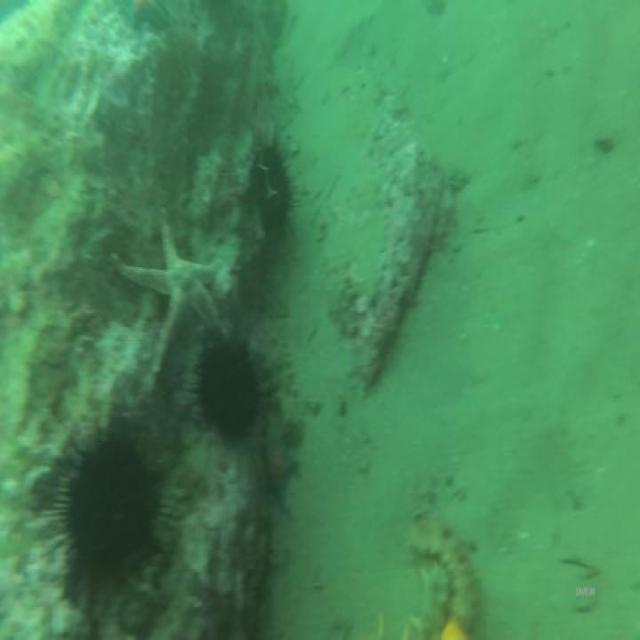echinus: (62, 431, 166, 588), (197, 333, 258, 441), (250, 139, 293, 243)
holothurian: (409, 513, 476, 640)
starfish: (107, 214, 233, 394)
